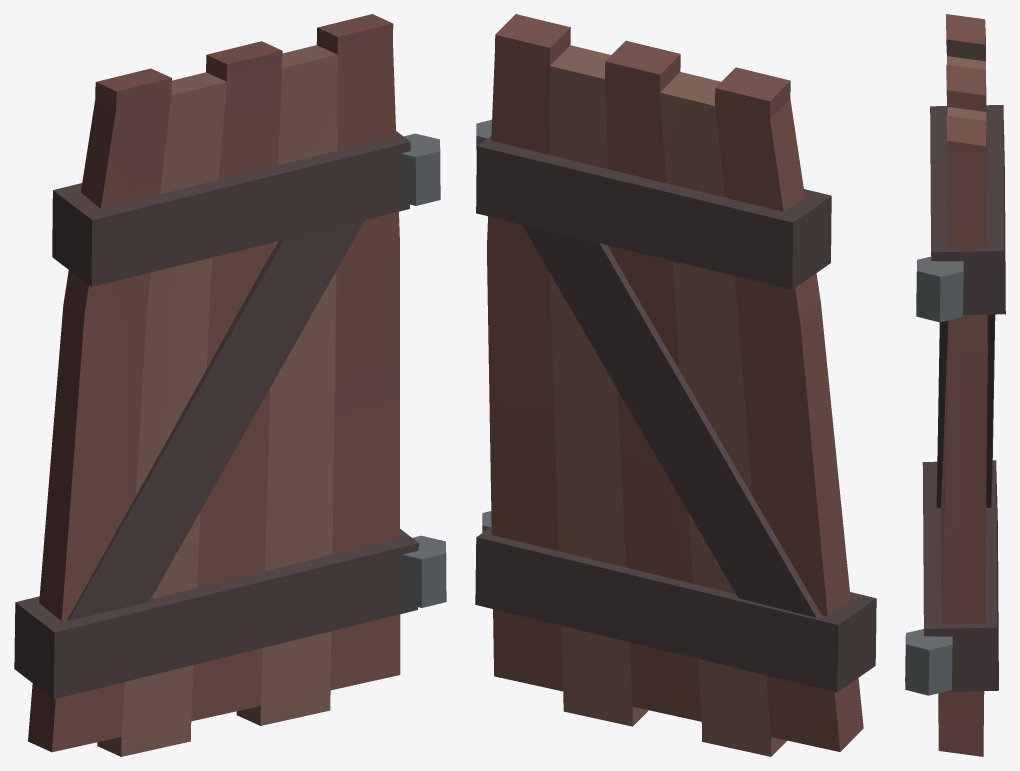
Rendered from LightRoseWoodDoorMediumWoodenStraight1.fbx.
3 views of the same model, side by side, from view 1: azimuth 30°, elevation 25°; view 2: azimuth 150°, elevation 25°; view 3: azimuth 270°, elevation 25° (orthographic). The views are drawn at different scales.
Visible parts, largest first — view 1: LightRoseWoodDoorMediumWoodenStraight1; view 2: LightRoseWoodDoorMediumWoodenStraight1; view 3: LightRoseWoodDoorMediumWoodenStraight1.
Boxes of the visible parts, x1,y1,x2,y2 form: LightRoseWoodDoorMediumWoodenStraight1: (14,14,446,756); LightRoseWoodDoorMediumWoodenStraight1: (475,14,876,756); LightRoseWoodDoorMediumWoodenStraight1: (905,14,1005,756).
Size of the model in its own units: 241 by 392 by 56.64.
